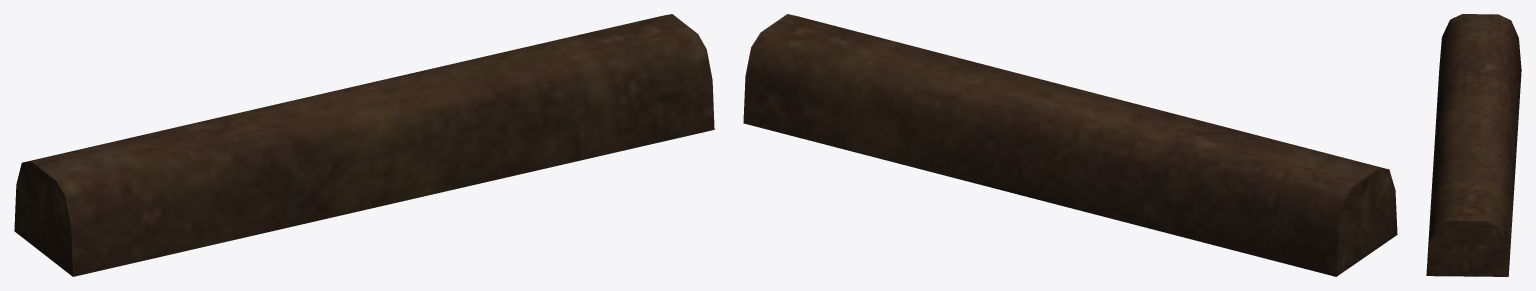
File: Woodlog_S_01.FBX
The picture shows the model from 3 angles, left to right: view 1: azimuth 30°, elevation 25°; view 2: azimuth 150°, elevation 25°; view 3: azimuth 270°, elevation 25°; orthographic projection. The views are drawn at different scales.
Parts seen in each view (by area): view 1: Woodlog_S_01; view 2: Woodlog_S_01; view 3: Woodlog_S_01.
Part boxes in pixels (x1,y1,x2,y2): Woodlog_S_01: (14, 14, 714, 276); Woodlog_S_01: (743, 14, 1397, 276); Woodlog_S_01: (1426, 14, 1521, 276).
Size of the model in its own units: 69.17 by 8.64 by 13.41.
